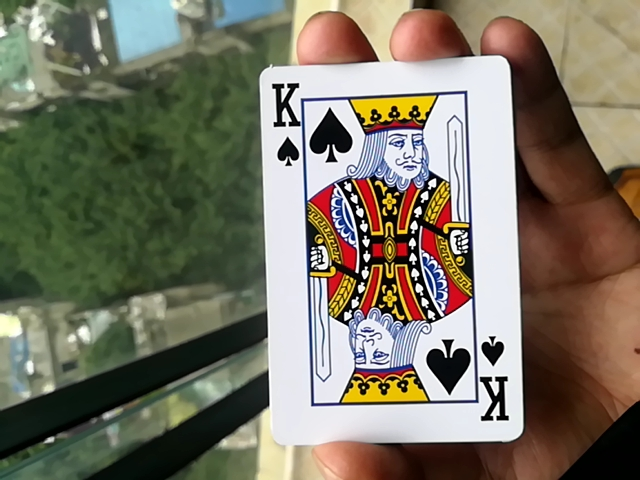ht k: (245, 61, 516, 450)
